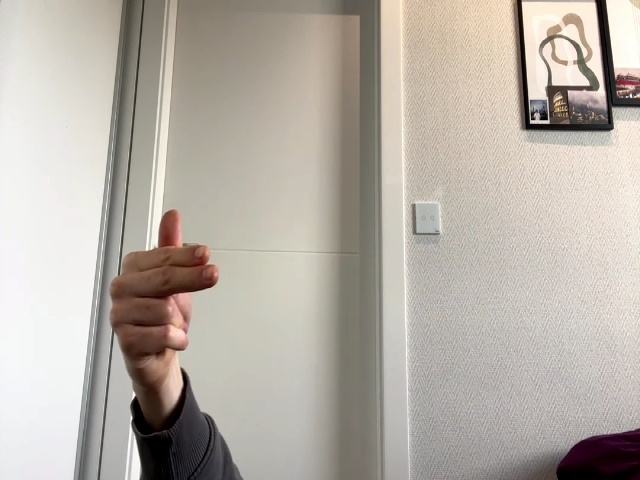N: (110, 210, 219, 359)
